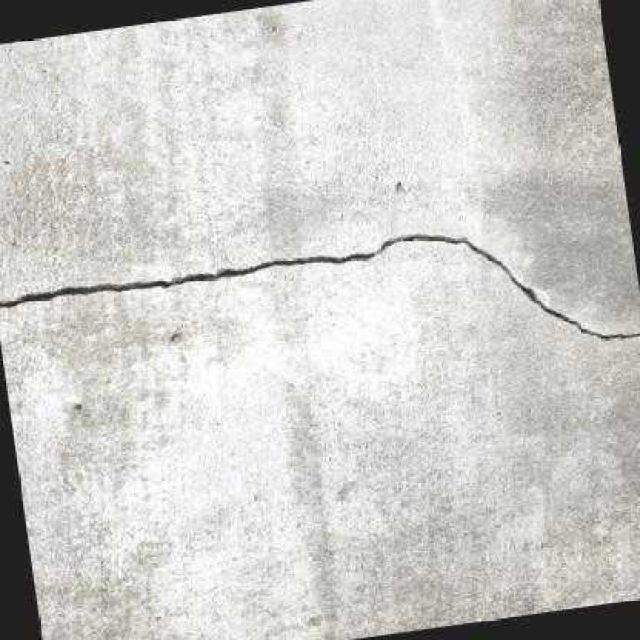D00: (0, 231, 640, 338)
